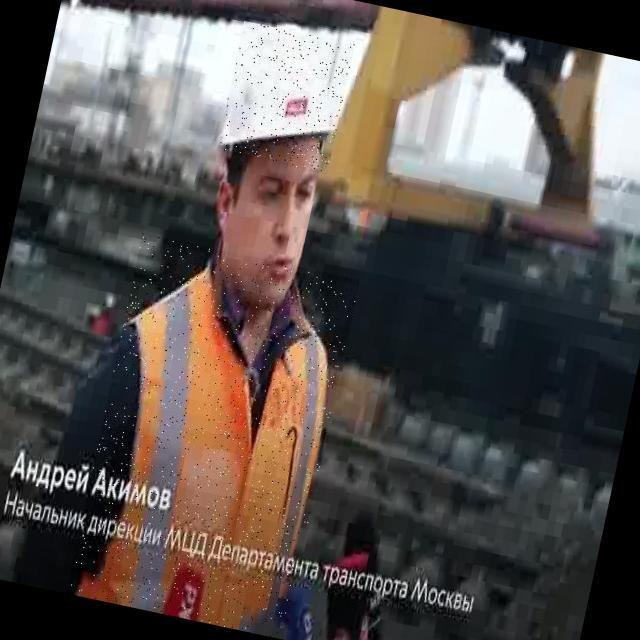Helmet: (216, 21, 354, 176)
Safety Vest: (66, 233, 359, 639)
